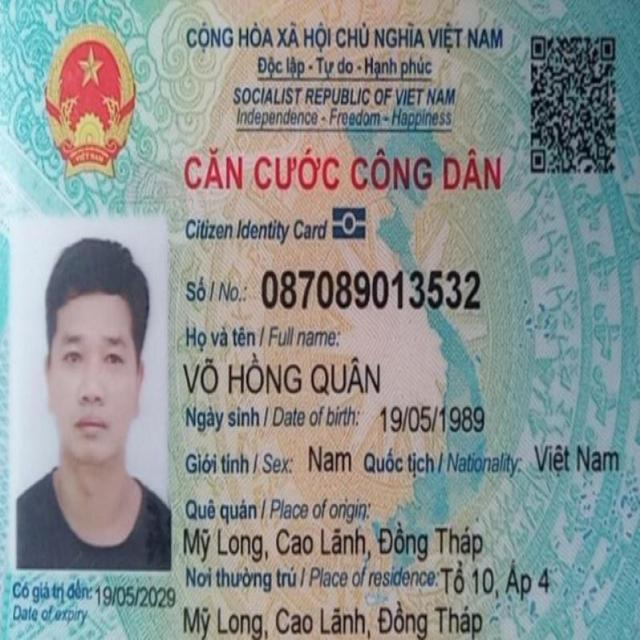current_place: (182, 600, 486, 640), (441, 560, 552, 598)
dob: (381, 404, 486, 435)
expire_date: (95, 582, 178, 608)
gender: (307, 441, 353, 474)
id: (260, 265, 483, 312)
name: (182, 351, 379, 398)
nationality: (534, 442, 620, 480)
origin_place: (181, 522, 483, 562)
